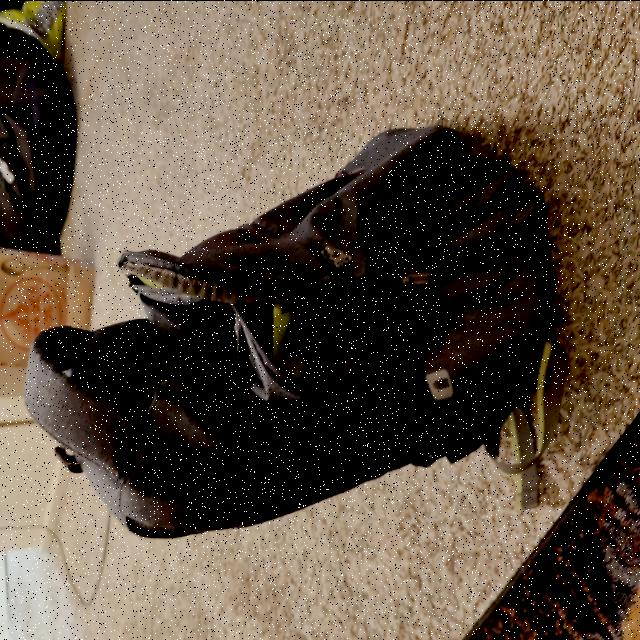bag: (23, 117, 535, 541)
